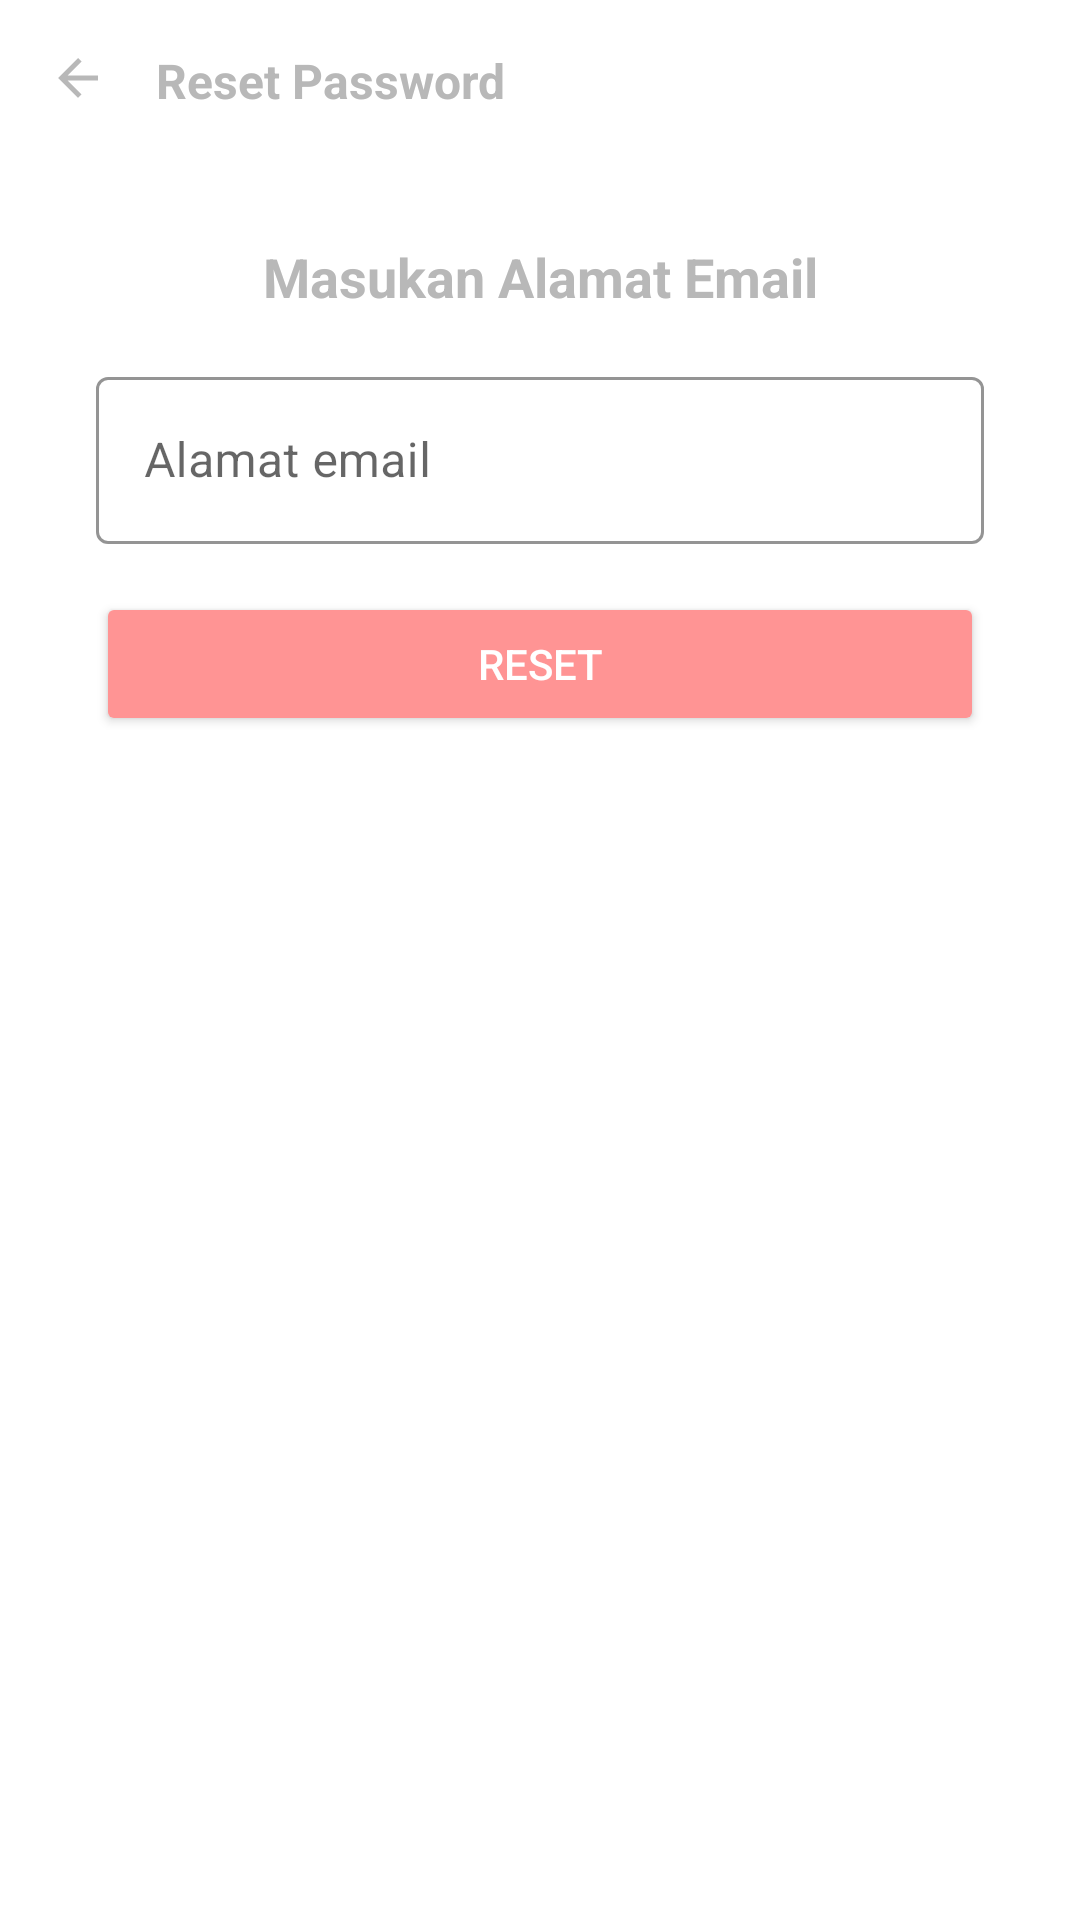

Icon click points for this 1080px×1920px phone screenshot, format (x,y):
arrow back: (78,78)
